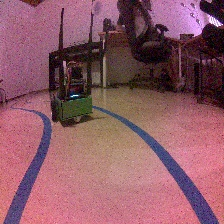rob: (49, 64, 92, 123)
